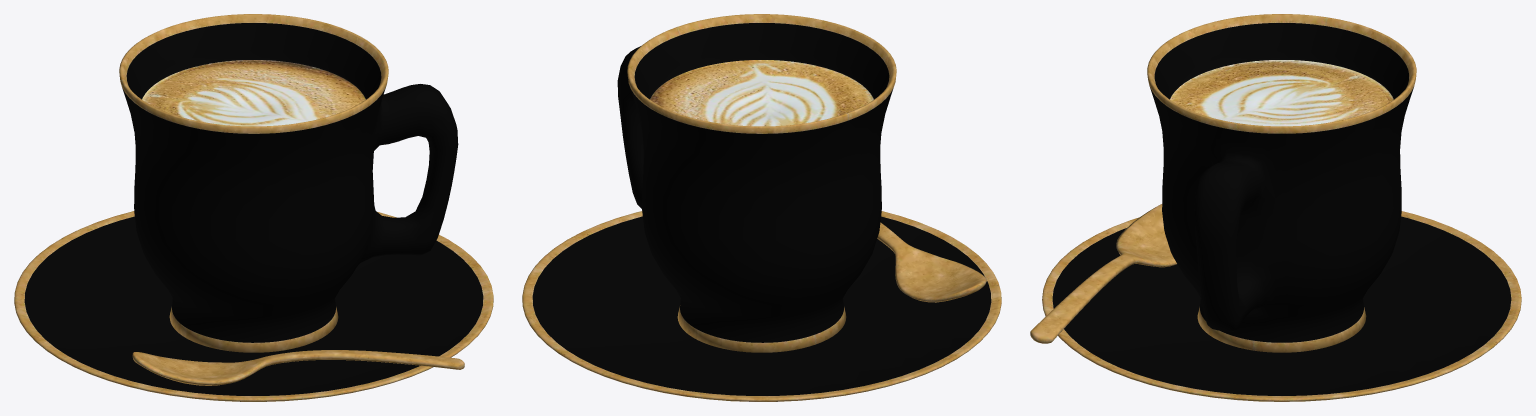
The model's file is coffee.glb.
3 views of the same model, side by side, from view 1: azimuth 30°, elevation 25°; view 2: azimuth 150°, elevation 25°; view 3: azimuth 270°, elevation 25° (orthographic).
Parts seen in each view (by area): view 1: Coffee_Coffee_Textures_0, Gold_Gold_Textures_0; view 2: Coffee_Coffee_Textures_0, Gold_Gold_Textures_0; view 3: Coffee_Coffee_Textures_0, Gold_Gold_Textures_0.
Part boxes in pixels (x1,y1,x2,y2): Coffee_Coffee_Textures_0: (24, 23, 483, 401); Gold_Gold_Textures_0: (14, 14, 493, 401); Coffee_Coffee_Textures_0: (532, 23, 991, 401); Gold_Gold_Textures_0: (522, 14, 1001, 401); Coffee_Coffee_Textures_0: (1052, 23, 1511, 395); Gold_Gold_Textures_0: (1030, 14, 1521, 401).
Bounding box in the file's own units: 195 × 118 × 199.
Materials: 2 (2 with a texture image).
